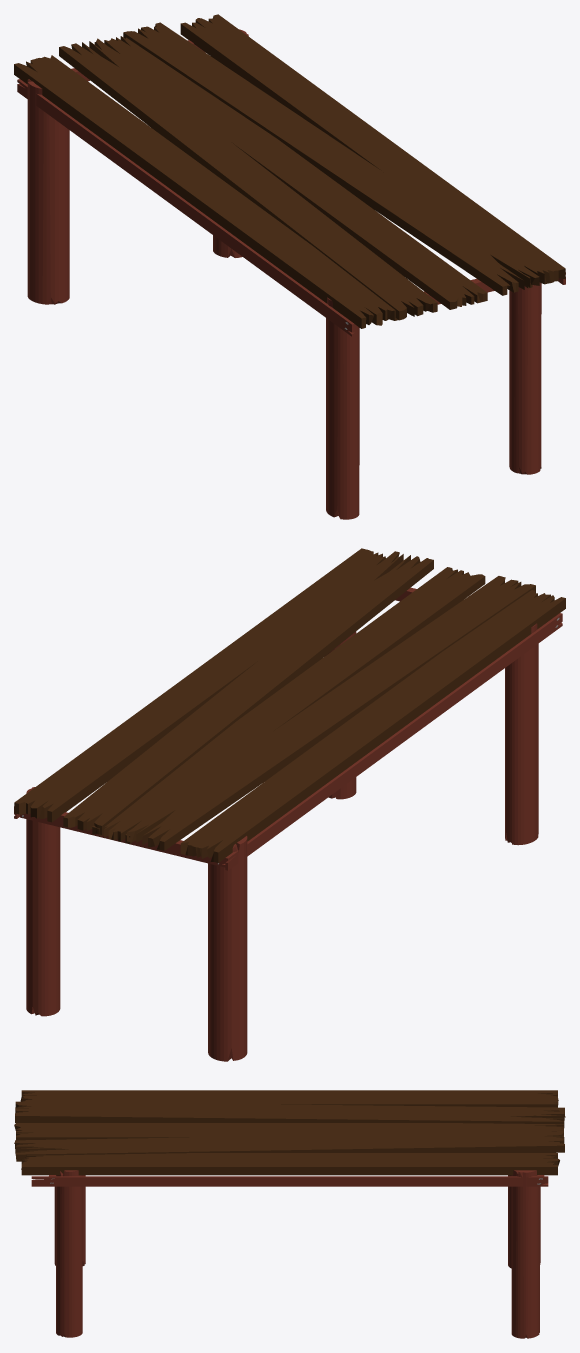
The model's file is deck rectangle 1.fbx.
3 views of the same model, one above another, from view 1: azimuth 30°, elevation 25°; view 2: azimuth 150°, elevation 25°; view 3: azimuth 270°, elevation 25° (orthographic). The views are drawn at different scales.
Visible parts, largest first — view 1: Cube.008, Cube.005, Cube.006, Cube.007, Cube.004, Cylinder, Cylinder.003, Cylinder.002, Cube.001; view 2: Cube.008, Cube.006, Cube.005, Cube.007, Cube.004, Cylinder, Cylinder.001, Cylinder.003, Cube.001, Cube.003; view 3: Cube.007, Cube.006, Cube.005, Cube.008, Cube.004, Cube, Cylinder.001, Cylinder.002, Cylinder.003, Cylinder.
Part boxes in pixels (box(x1,y1,x2,y2)): Cube.008: box(14, 55, 397, 328); Cube.005: box(123, 22, 539, 295); Cube.006: box(59, 38, 437, 320); Cube.007: box(180, 14, 565, 288); Cube.004: box(94, 36, 487, 309); Cylinder: box(27, 79, 69, 304); Cylinder.003: box(326, 297, 359, 519); Cylinder.002: box(509, 282, 541, 474); Cube.001: box(17, 79, 354, 336); Cube.008: box(180, 590, 565, 862); Cube.006: box(127, 576, 535, 850); Cube.005: box(63, 551, 433, 834); Cube.007: box(14, 548, 397, 822); Cube.004: box(92, 567, 485, 843); Cylinder: box(208, 836, 247, 1061); Cylinder.001: box(26, 787, 60, 1016); Cylinder.003: box(505, 623, 538, 845); Cube.001: box(225, 613, 562, 870); Cube.003: box(20, 812, 226, 867); Cube.007: box(21, 1153, 559, 1175); Cube.006: box(15, 1101, 565, 1127); Cube.005: box(14, 1131, 564, 1161); Cube.008: box(20, 1090, 558, 1107); Cube.004: box(14, 1123, 563, 1140); Cube: box(31, 1176, 548, 1186); Cylinder.001: box(511, 1170, 539, 1338); Cylinder.002: box(56, 1170, 82, 1337); Cylinder.003: box(54, 1175, 85, 1265); Cylinder: box(508, 1175, 540, 1268).
Size of the model in its own units: 1142 by 1119 by 3278.
